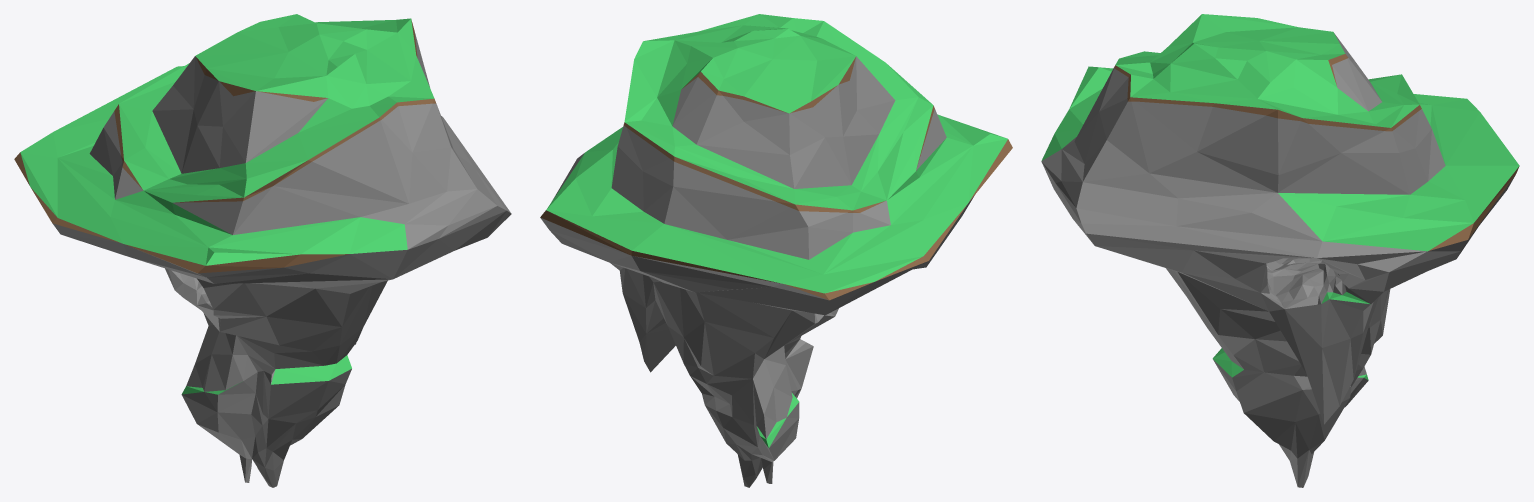
File: LargeIsland.fbx
3 renders of one model, left to right at view 1: azimuth 30°, elevation 25°; view 2: azimuth 150°, elevation 25°; view 3: azimuth 270°, elevation 25°, orthographic. The views are drawn at different scales.
Visible parts, largest first — view 1: MegaIsland; view 2: MegaIsland; view 3: MegaIsland.
Part boxes in pixels (x1,y1,x2,y2): MegaIsland: (14, 14, 511, 487); MegaIsland: (540, 14, 1012, 487); MegaIsland: (1041, 14, 1519, 487).
Size of the model in its own units: 8772 by 9924 by 9560.
